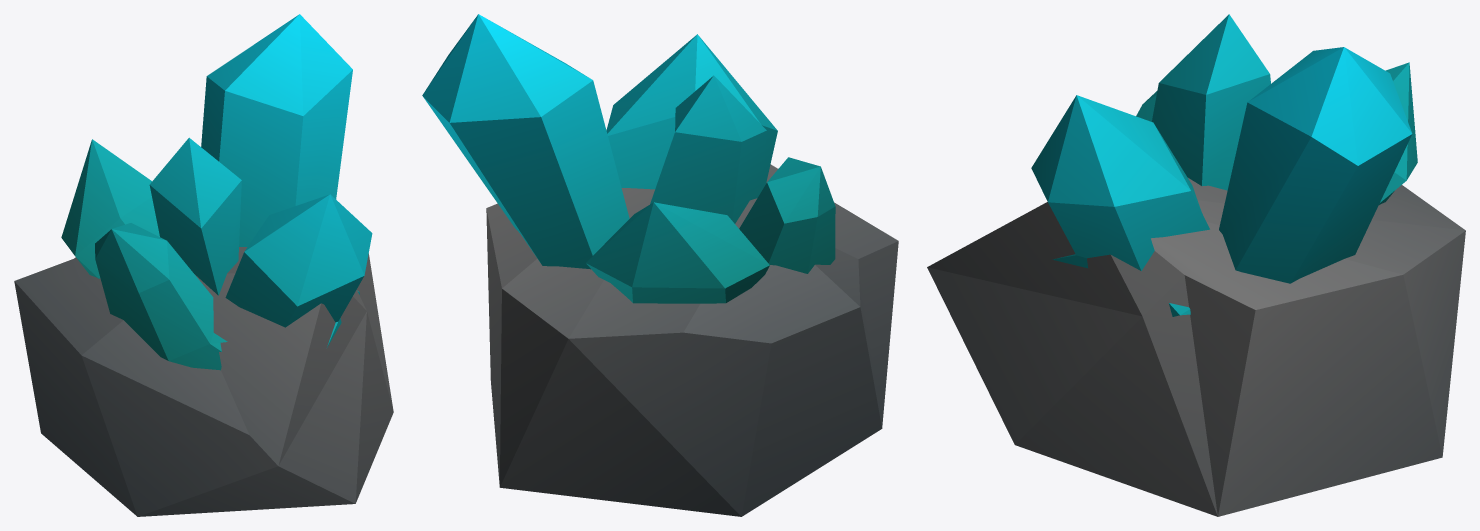
Rendered from Aerinite Gem.fbx.
3 renders of one model, left to right at view 1: azimuth 30°, elevation 25°; view 2: azimuth 150°, elevation 25°; view 3: azimuth 270°, elevation 25°, orthographic. The views are drawn at different scales.
Parts seen in each view (by area): view 1: AERINITE GEM.001; view 2: AERINITE GEM.001; view 3: AERINITE GEM.001.
Part boxes in pixels (x1,y1,x2,y2): AERINITE GEM.001: [14, 14, 393, 516]; AERINITE GEM.001: [422, 14, 898, 516]; AERINITE GEM.001: [927, 14, 1465, 516].
Size of the model in its own units: 164 by 182 by 199.
Materials: 2 (2 with a texture image).
